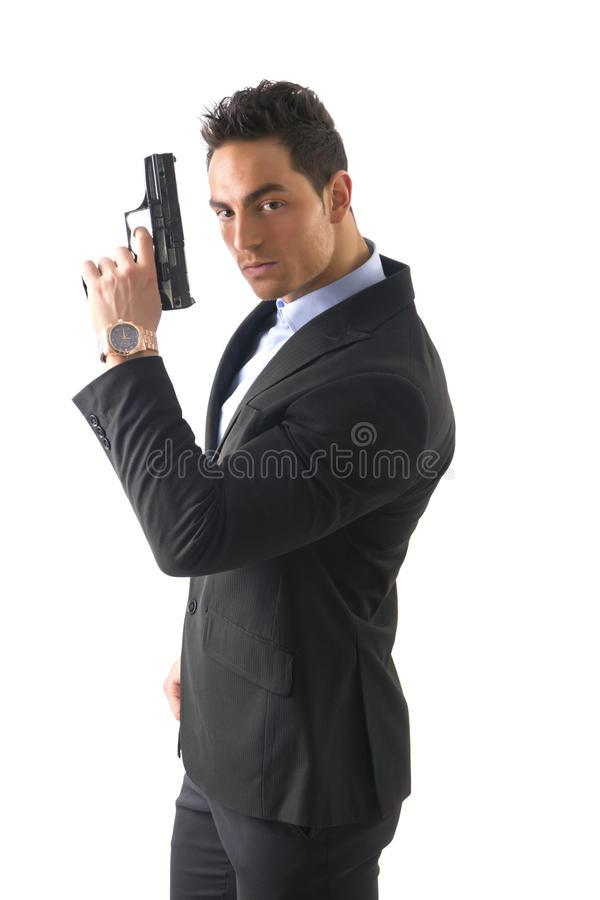criminal: (67, 72, 458, 900)
weapon: (72, 140, 204, 321)
